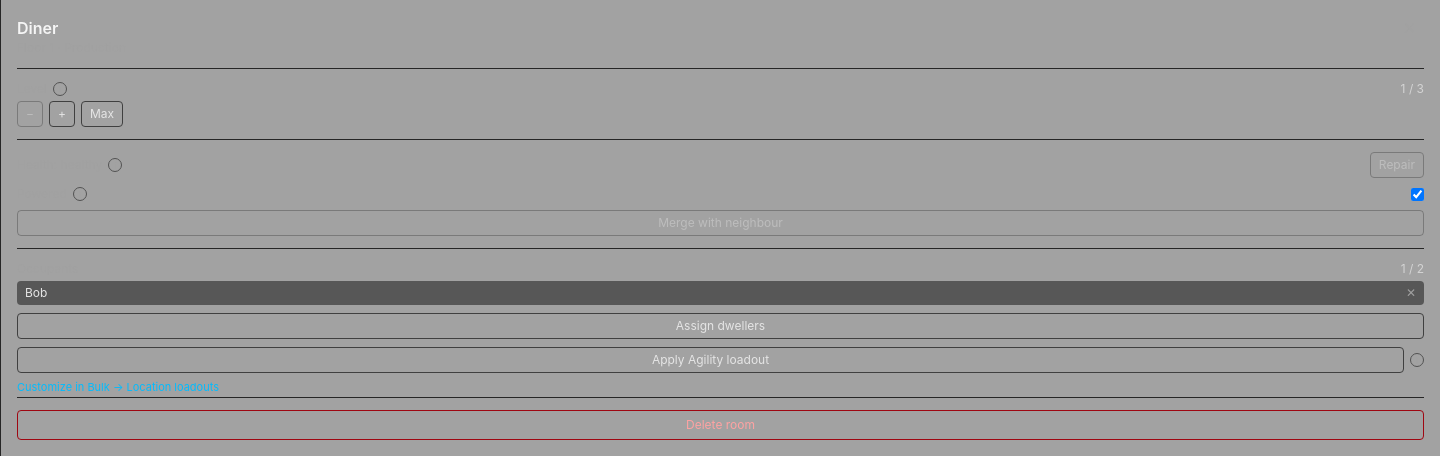
Scenario: RoomSidePanel loadout clarity (finding 4) › shows a help tooltip describing exactly what the loadout equips
This screenshot has width=1440, height=473.
Hover over the button named "What this loadout equips".
mouse_move(1417, 360)  # box [1410, 353, 1424, 367]
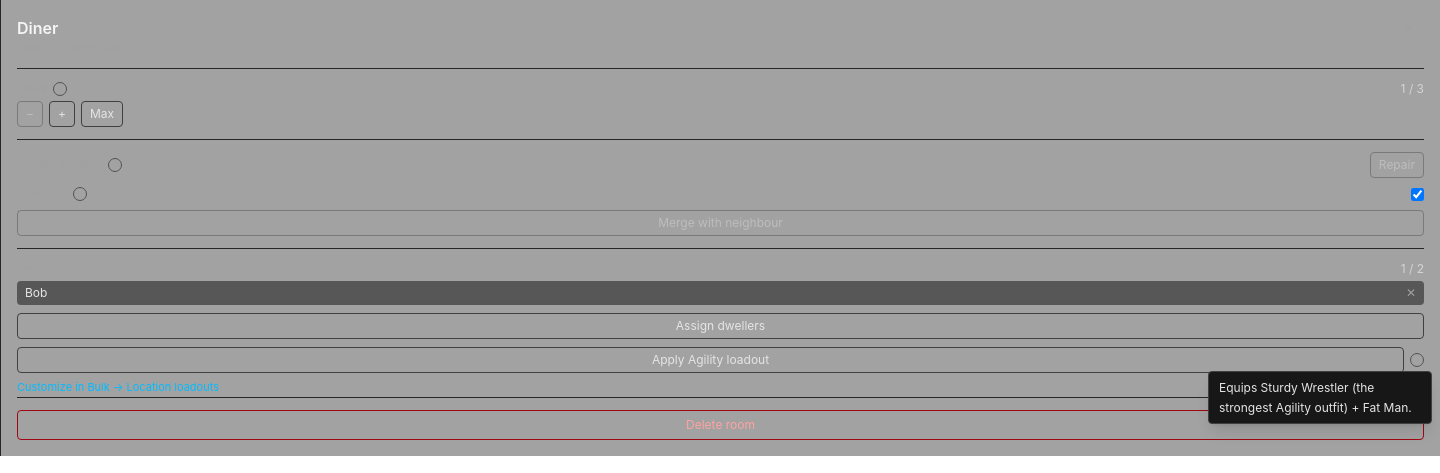
Now the tooltip shows "the strongest Agility outfit", box [1219, 380, 1412, 414]
